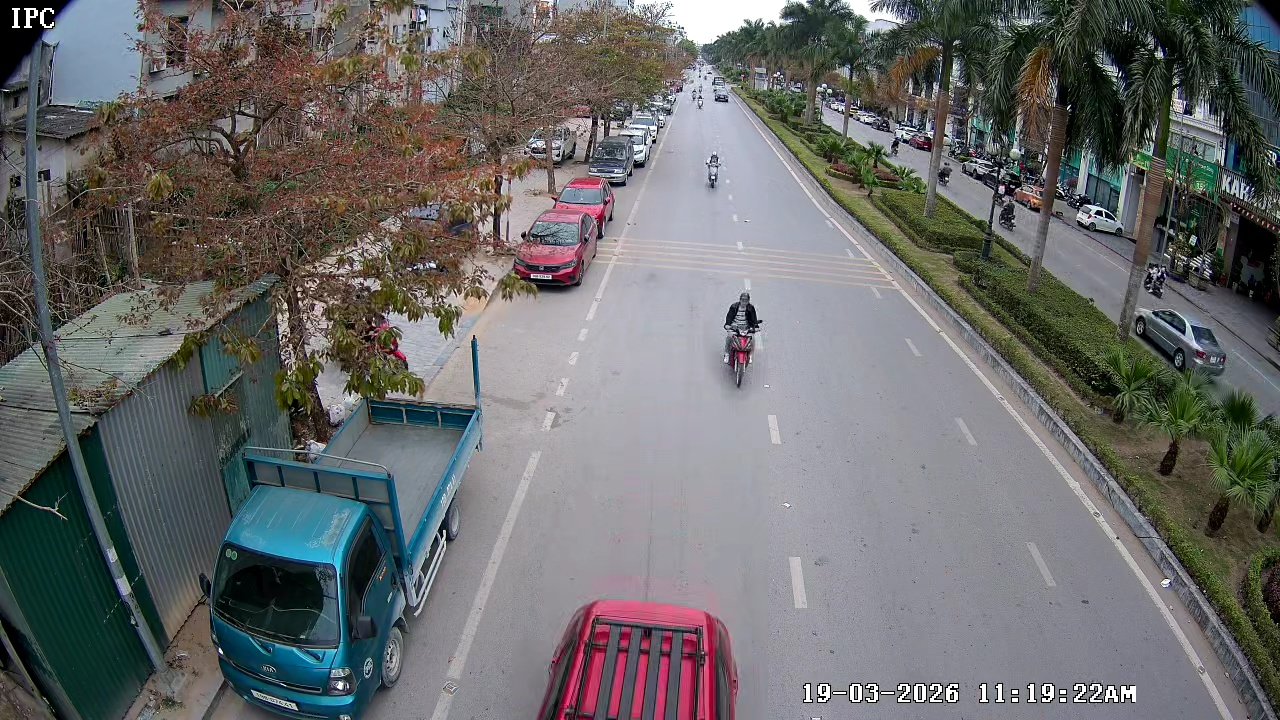bike: (718, 285, 765, 388)
car: (1128, 306, 1226, 378), (513, 209, 591, 291), (554, 177, 616, 238), (589, 127, 641, 194), (712, 85, 731, 106)
motorbike: (700, 147, 727, 190), (698, 92, 705, 109)
